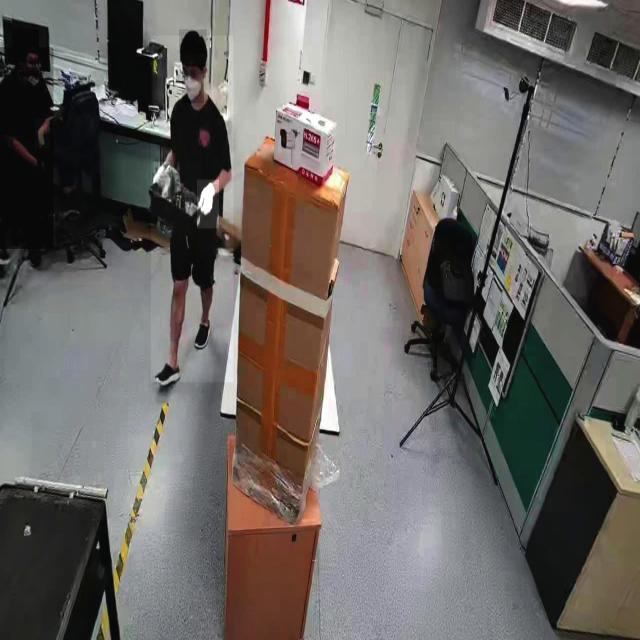face_mask: (182, 64, 204, 104)
hand_glove: (197, 180, 219, 228), (154, 162, 170, 197)
hand_noglove: (35, 118, 51, 150), (36, 158, 48, 178)
head_nohelmet: (179, 30, 207, 54), (12, 29, 40, 52)
person: (151, 36, 234, 383), (0, 47, 54, 250)
shoes: (152, 354, 182, 389), (192, 315, 212, 351)
